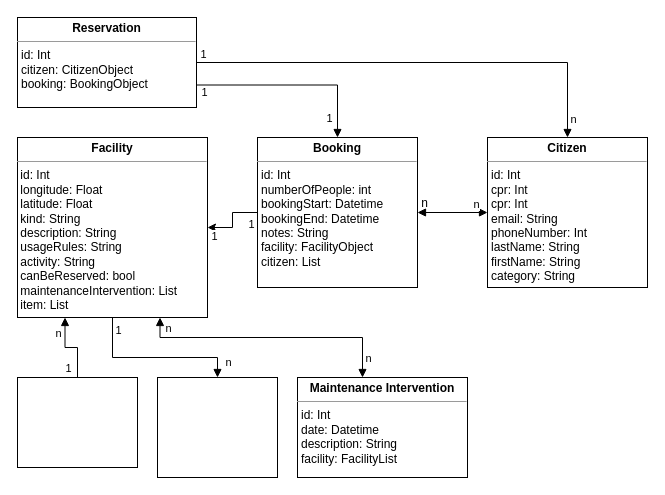
This 665x495 diagram has some shape labels left out. Each missing label, with the box of its shape:
Item id: Int name: String amount: Int status: String: (156, 376, 278, 478)
Municipality id: Int name: String facility: List: (16, 376, 138, 468)
